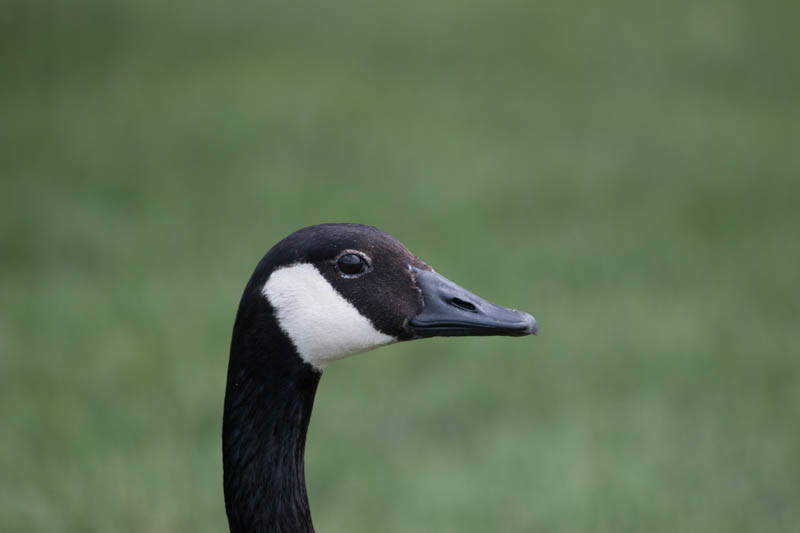goose-head: (228, 222, 539, 374)
